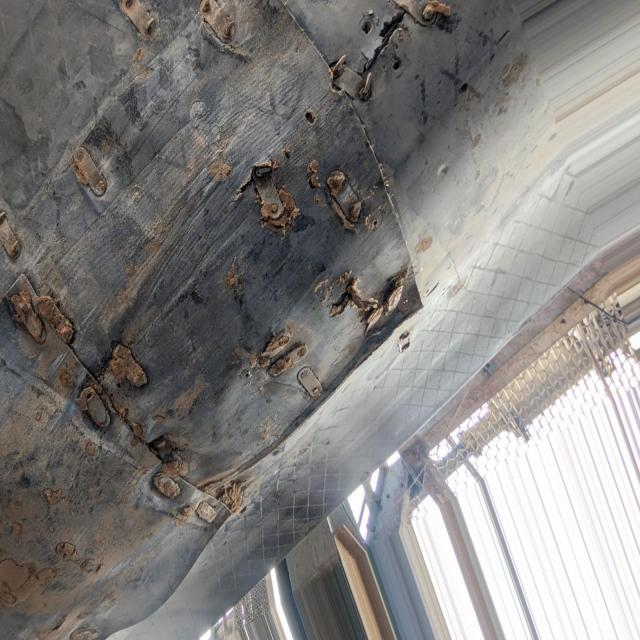patch work: (0, 0, 466, 589)
